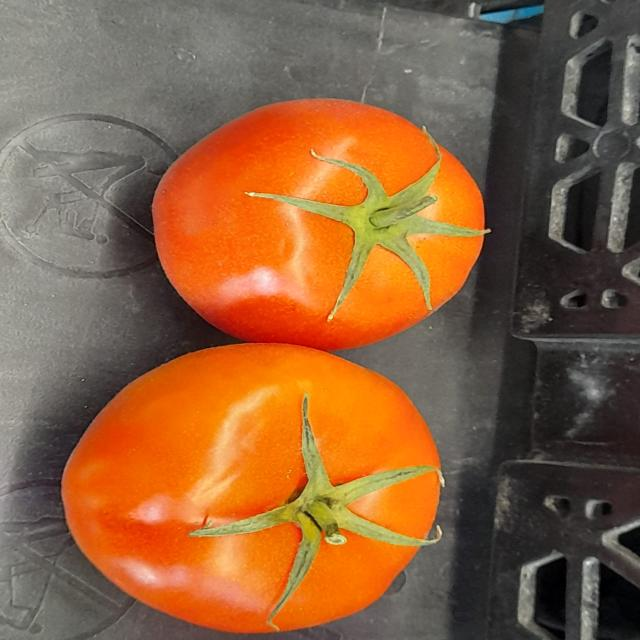tomato: (44, 338, 467, 638), (151, 92, 495, 352)
